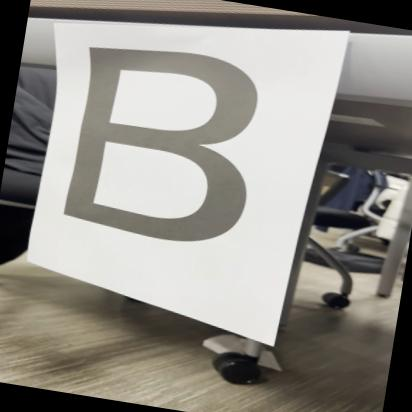seat: (42, 29, 290, 264)
